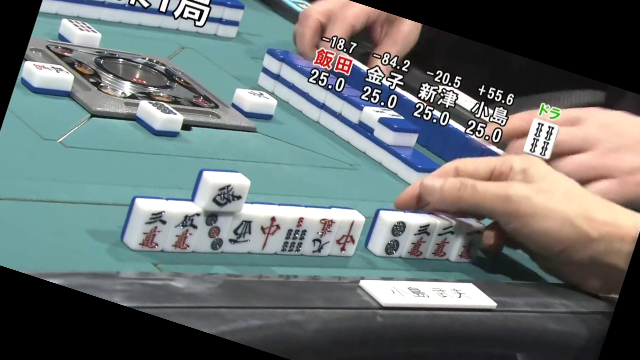Tehai: (119, 189, 486, 268)
